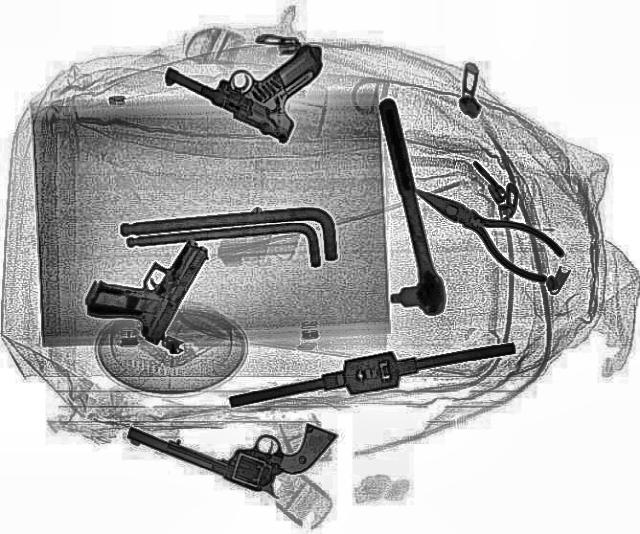Gun: (119, 369, 337, 505), (155, 1, 349, 144), (72, 218, 212, 346)
Pliers: (396, 172, 574, 286)
